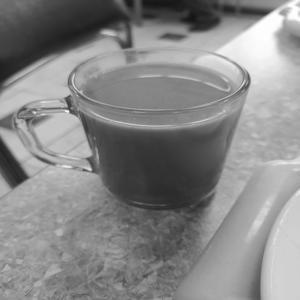coffee: (52, 33, 254, 217)
